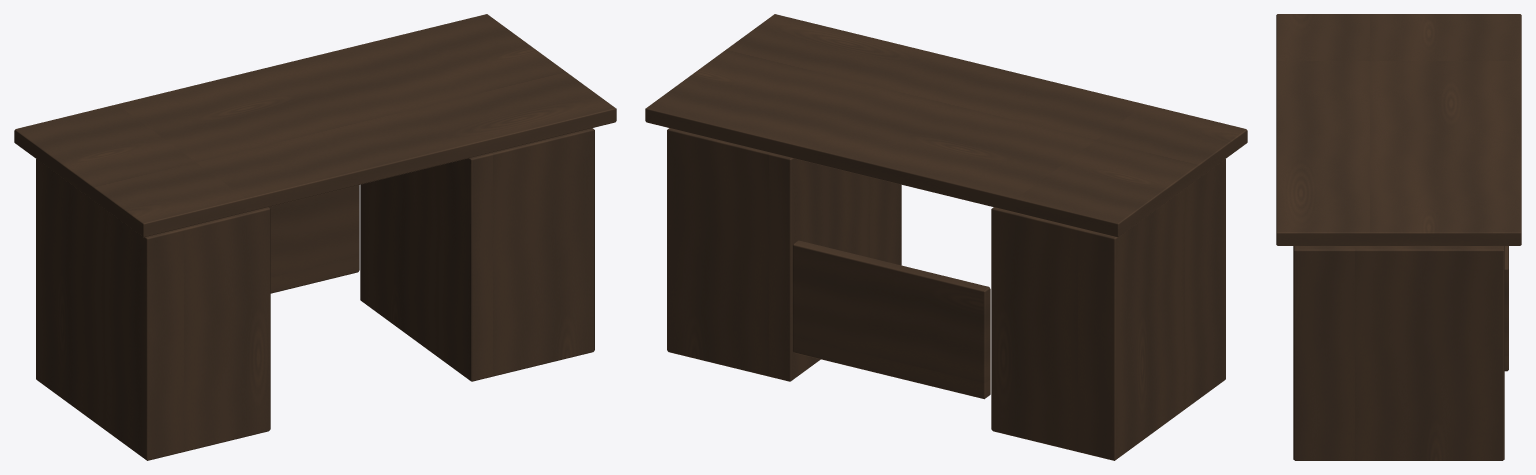
Rendered from standard_lod2.glb.
The picture shows the model from 3 angles, left to right: view 1: azimuth 30°, elevation 25°; view 2: azimuth 150°, elevation 25°; view 3: azimuth 270°, elevation 25°; orthographic projection. The views are drawn at different scales.
Parts seen in each view (by area): view 1: BATCH_Desk_Standard_LOD2_Desk_Standard_Body, BATCH_Desk_Standard_LOD2_Desk_Standard_Surface; view 2: BATCH_Desk_Standard_LOD2_Desk_Standard_Body, BATCH_Desk_Standard_LOD2_Desk_Standard_Surface; view 3: BATCH_Desk_Standard_LOD2_Desk_Standard_Surface, BATCH_Desk_Standard_LOD2_Desk_Standard_Body.
Boxes of the visible parts, bbox=[...] form: BATCH_Desk_Standard_LOD2_Desk_Standard_Body: bbox=[36, 128, 594, 460]; BATCH_Desk_Standard_LOD2_Desk_Standard_Surface: bbox=[14, 14, 616, 237]; BATCH_Desk_Standard_LOD2_Desk_Standard_Body: bbox=[667, 128, 1225, 460]; BATCH_Desk_Standard_LOD2_Desk_Standard_Surface: bbox=[645, 14, 1247, 237]; BATCH_Desk_Standard_LOD2_Desk_Standard_Surface: bbox=[1276, 14, 1521, 245]; BATCH_Desk_Standard_LOD2_Desk_Standard_Body: bbox=[1293, 246, 1508, 460].
Bounding box in the file's own units: 1.52 × 0.76 × 0.72.
Materials: 2 (2 with a texture image).
